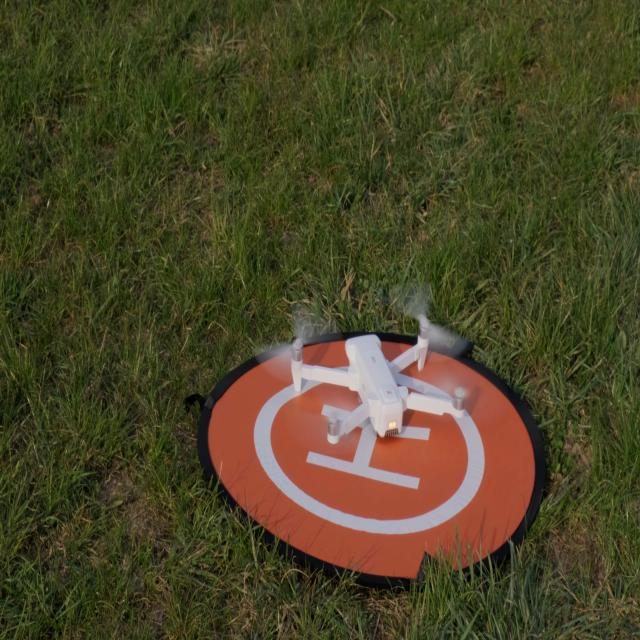drone: (290, 314, 470, 446)
